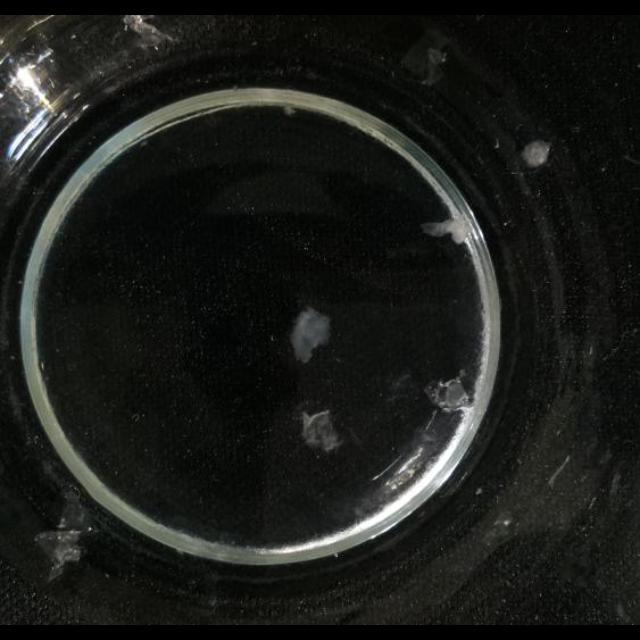Fibre: (32, 529, 88, 581), (288, 304, 334, 362), (399, 36, 447, 86), (424, 374, 472, 414), (300, 408, 342, 452), (123, 15, 175, 50), (420, 213, 470, 244), (546, 454, 572, 488), (282, 105, 298, 116)
microbeads: (521, 140, 551, 168), (475, 486, 483, 496)
